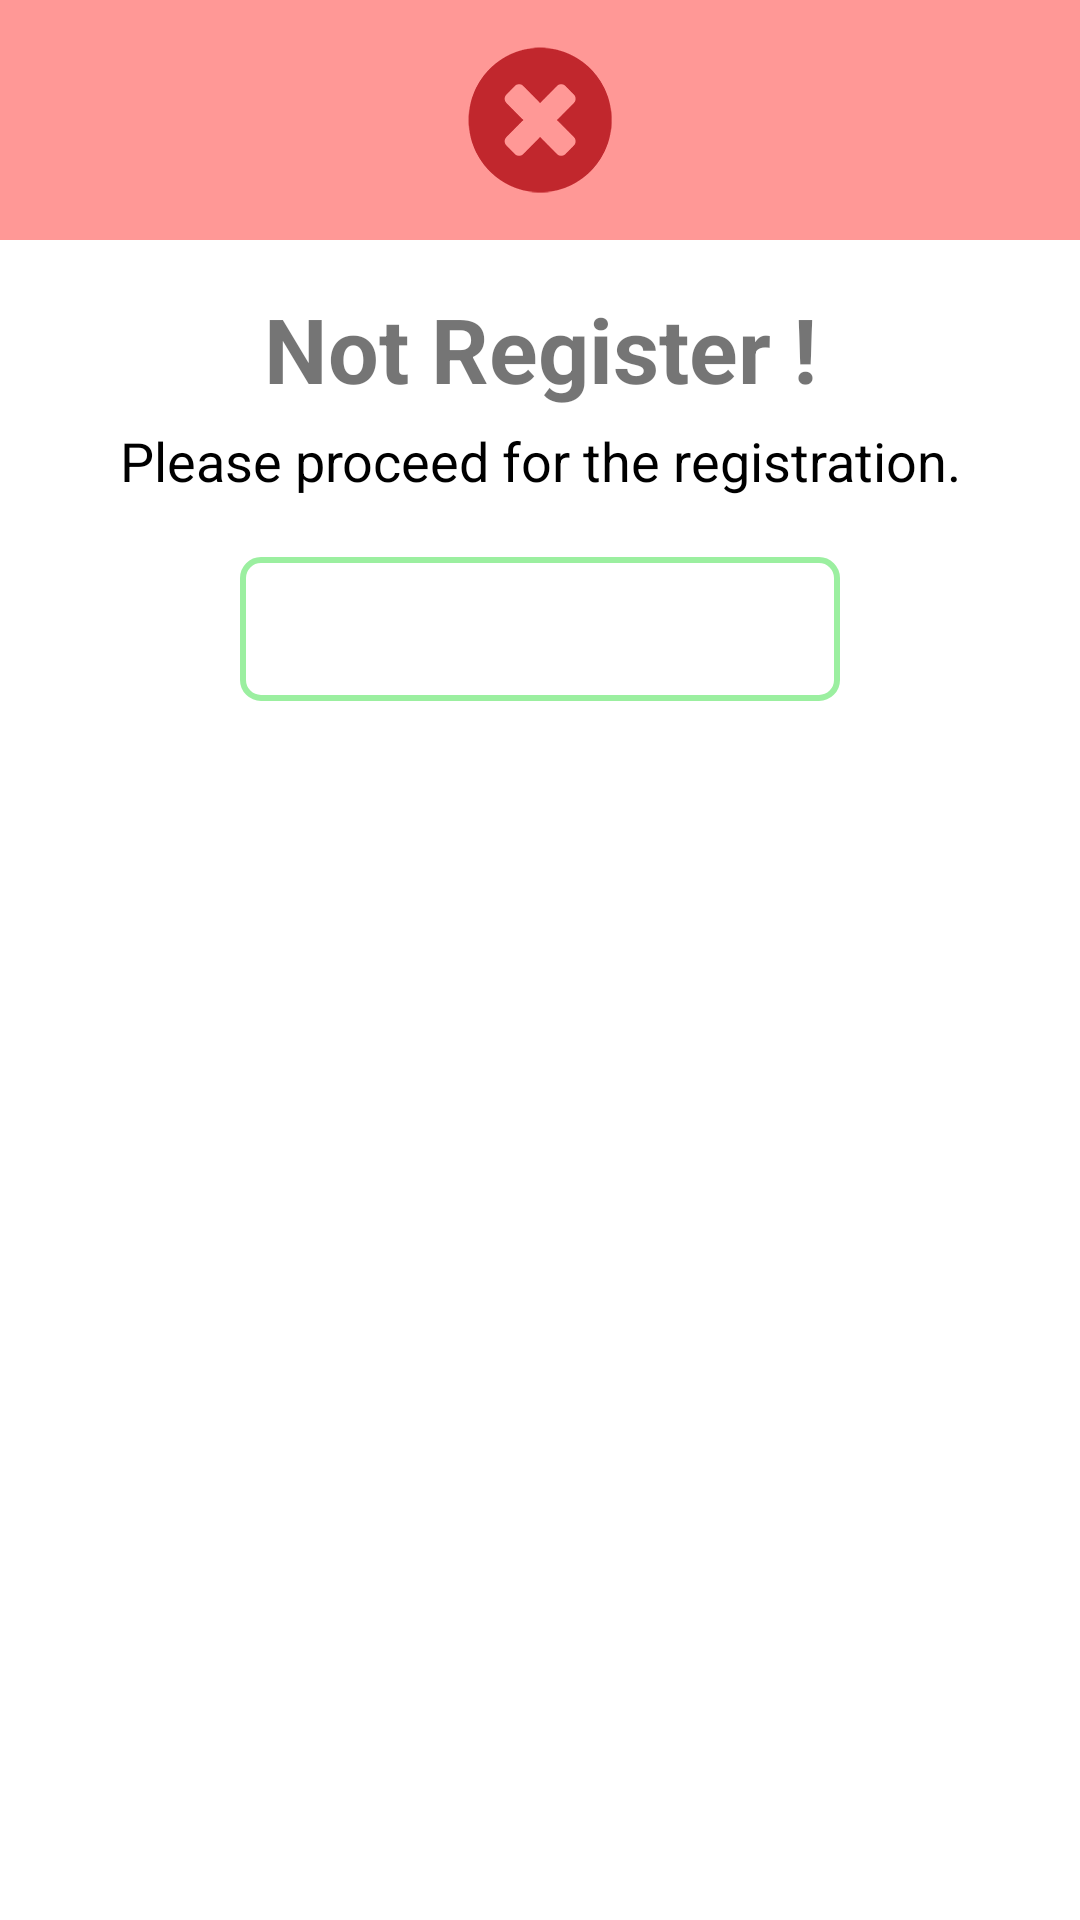

Icons on this 1080 x 1920 Android screen, each with its box as (x1, y1, x2, y2):
reject: (468, 47, 612, 193)
